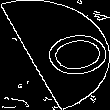O_W: (10, 25, 100, 85)
